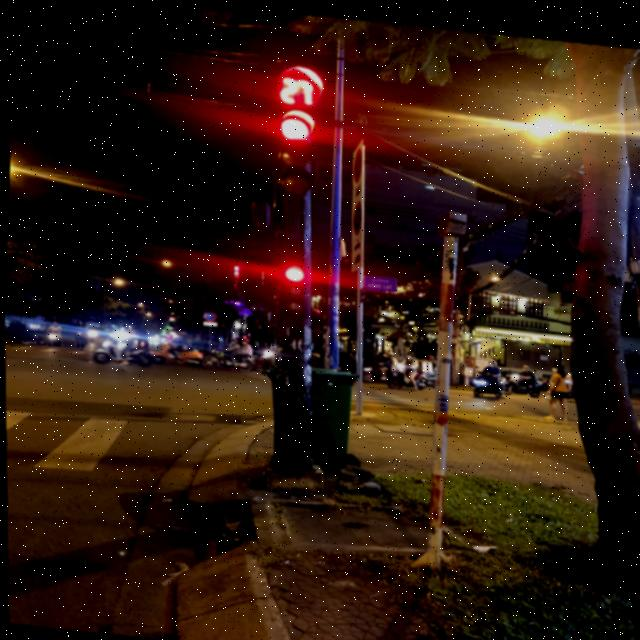Red: (274, 100, 319, 202), (276, 255, 314, 321)
